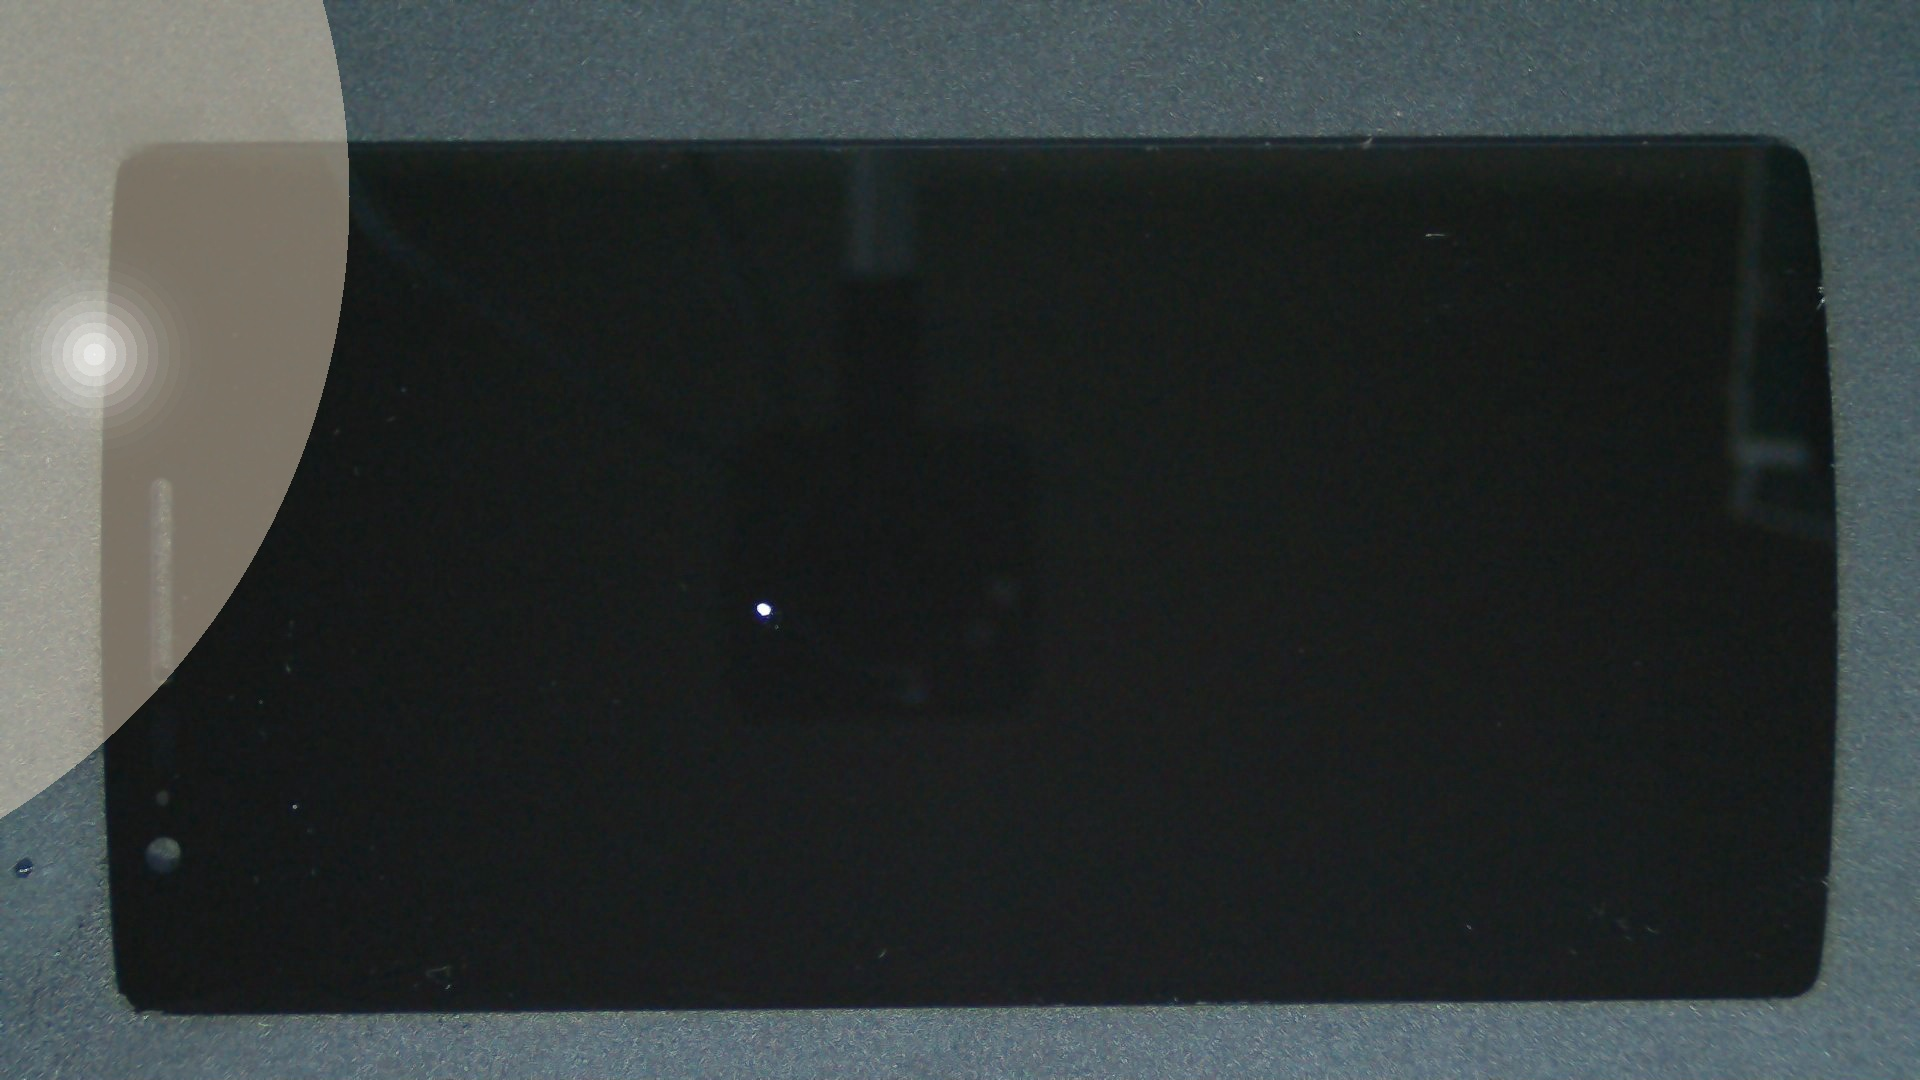oil: (382, 299, 1143, 901)
